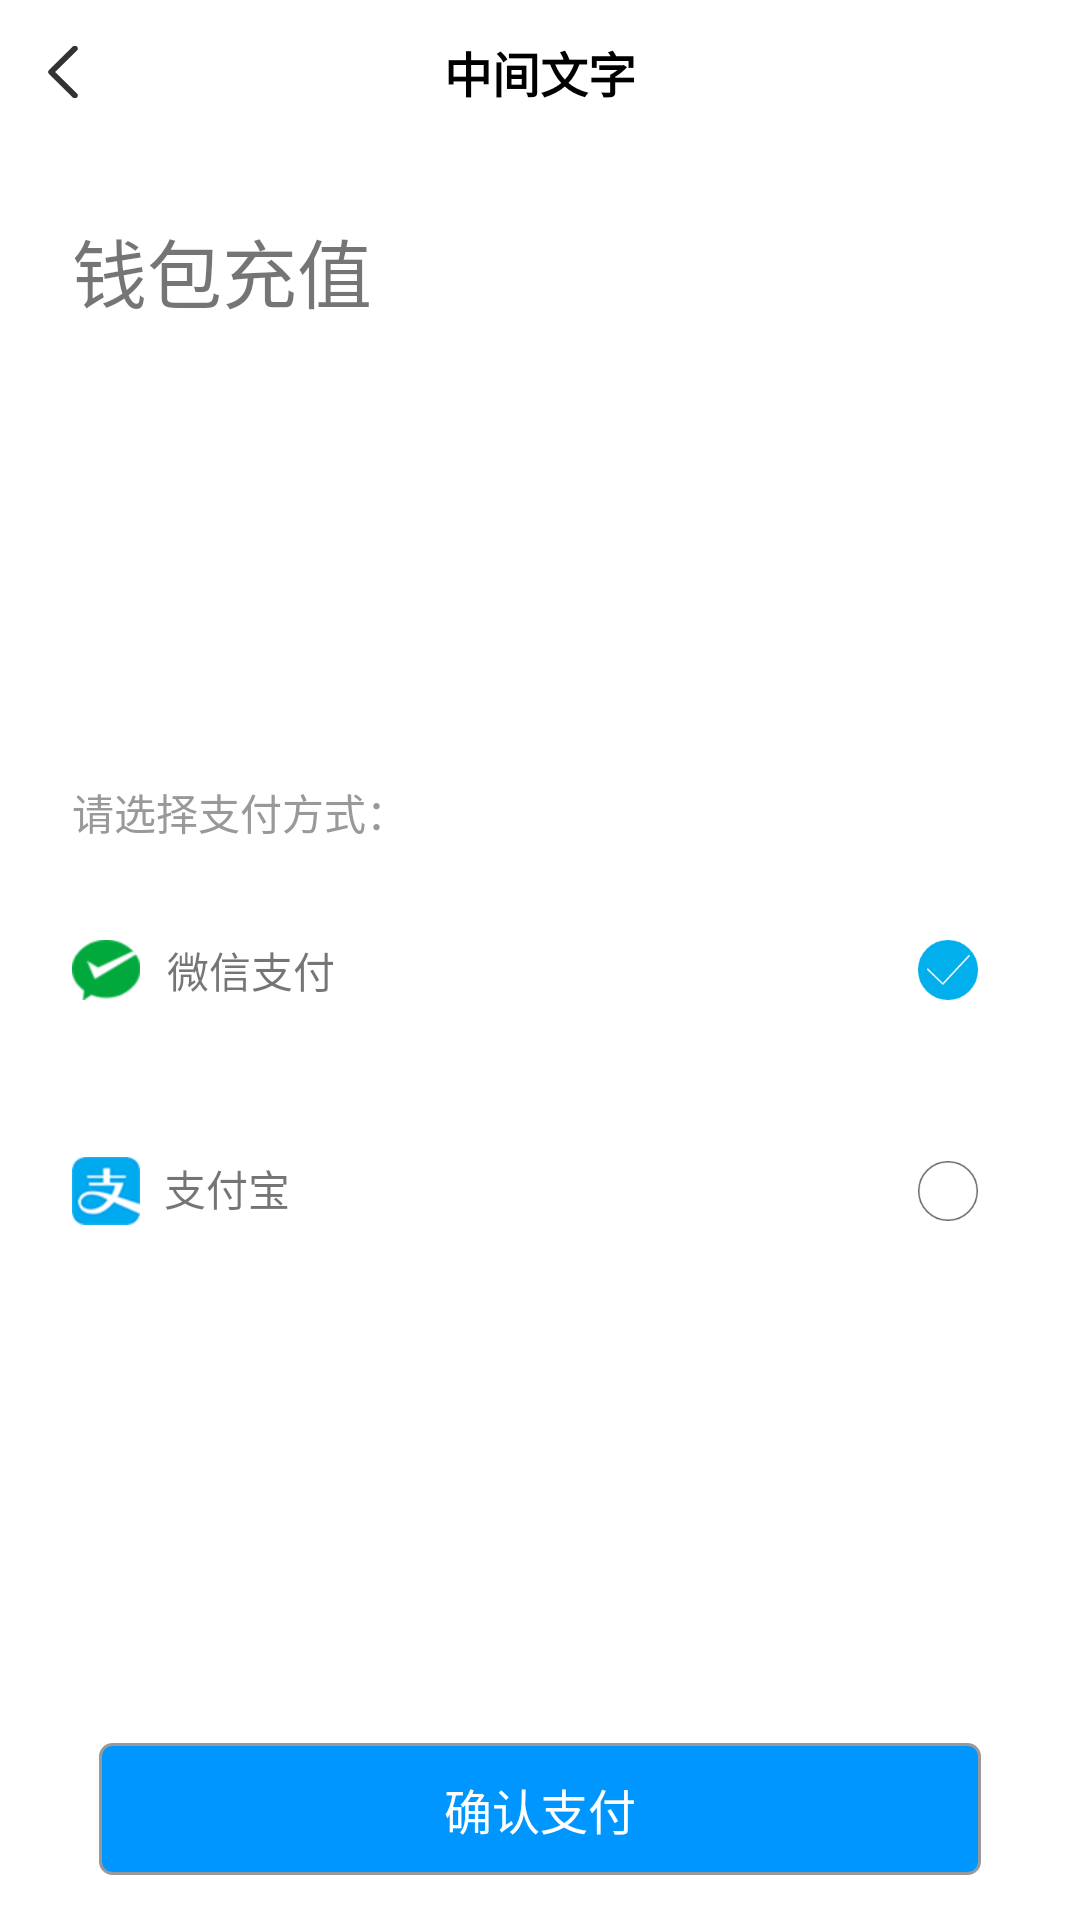

Point at icon controls on the screen. Image size 1080w x 1920h, points as point (x, y).
checked: point (948, 970)
no checked: point (948, 1191)
